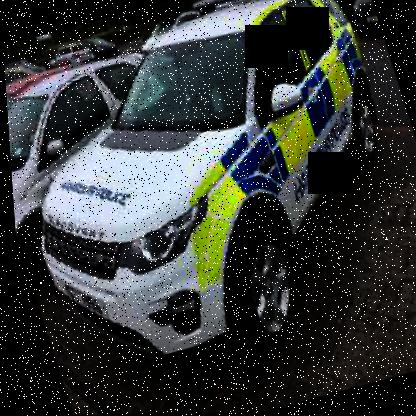emergency: (0, 0, 415, 410)
not_emergency: (2, 43, 218, 287), (3, 55, 111, 159), (338, 0, 383, 47)
